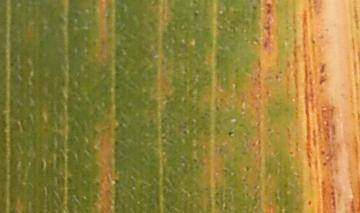tarspot: (262, 16, 273, 38), (318, 74, 327, 85), (318, 62, 326, 74), (261, 40, 270, 49), (265, 3, 272, 14), (321, 160, 328, 168), (181, 129, 189, 136), (307, 69, 314, 77), (226, 130, 235, 136), (306, 199, 312, 208), (319, 149, 326, 156), (8, 61, 15, 68), (329, 189, 336, 196), (191, 156, 198, 163), (192, 10, 198, 18), (214, 104, 220, 112), (244, 164, 250, 172), (250, 4, 257, 10), (310, 38, 316, 45), (287, 150, 294, 156), (273, 73, 279, 80), (113, 139, 119, 146), (114, 83, 119, 91), (320, 179, 326, 185), (257, 137, 261, 145), (311, 1, 317, 5)
